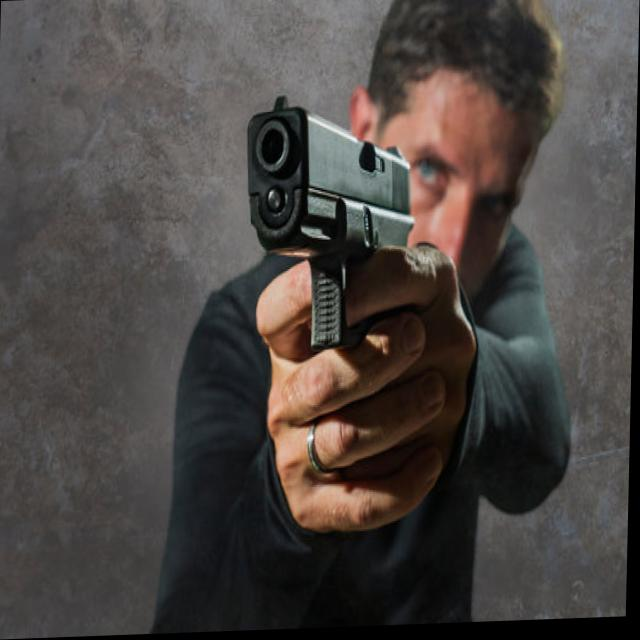handgun: (237, 92, 479, 473)
